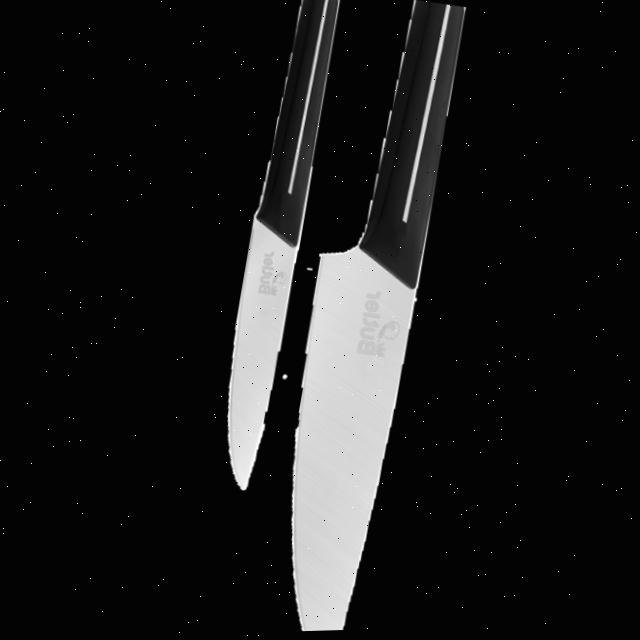knife: (249, 0, 486, 634), (205, 0, 351, 503)
